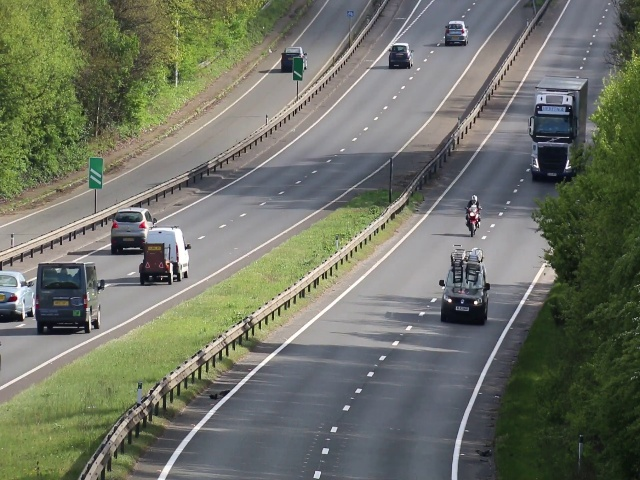car: (36, 262, 105, 334), (526, 108, 576, 183), (439, 269, 490, 322), (151, 227, 191, 277), (1, 268, 32, 322), (109, 210, 140, 251), (443, 20, 468, 45), (389, 43, 413, 68), (280, 46, 293, 73)
